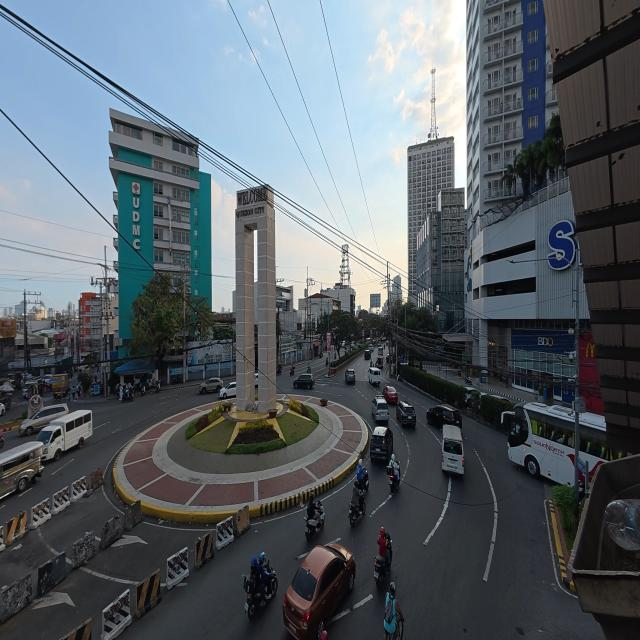Jeepneys: (0, 442, 43, 498)
bus: (503, 403, 574, 485)
car: (283, 543, 355, 639), (19, 404, 69, 435), (427, 405, 462, 429), (370, 426, 393, 462), (396, 401, 416, 426), (372, 396, 389, 422), (200, 378, 223, 394), (23, 379, 41, 398), (294, 373, 314, 389), (220, 381, 236, 399), (383, 386, 398, 403), (465, 387, 477, 405), (345, 369, 355, 384), (0, 403, 5, 415), (255, 373, 259, 386), (365, 349, 370, 359)
motorcycle: (374, 534, 392, 587), (305, 501, 324, 540), (244, 576, 260, 619), (349, 500, 365, 526), (387, 465, 399, 493), (356, 468, 369, 492), (123, 387, 133, 402), (0, 396, 11, 409), (152, 380, 160, 393), (0, 432, 4, 449), (465, 375, 472, 384), (141, 384, 146, 395), (277, 365, 281, 375), (325, 357, 329, 366), (290, 367, 294, 375), (307, 366, 311, 373)
trucks: (51, 374, 68, 398)
vans: (37, 411, 92, 460), (442, 425, 463, 475), (368, 367, 381, 386)
